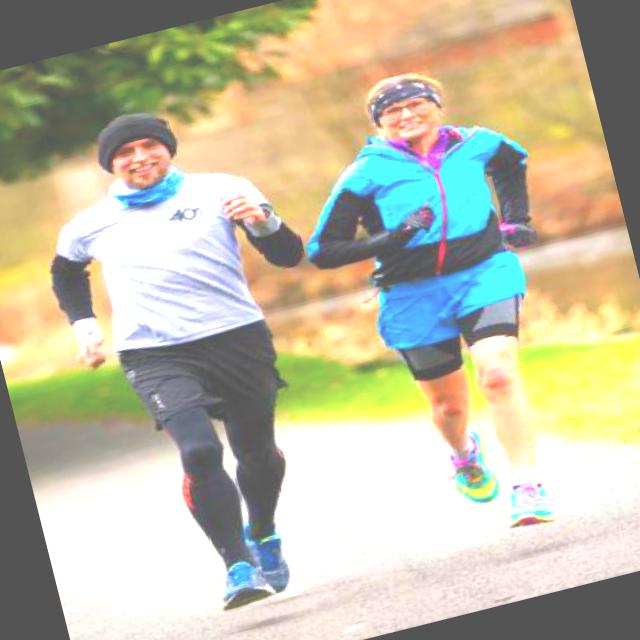Person: (0, 80, 364, 640)
